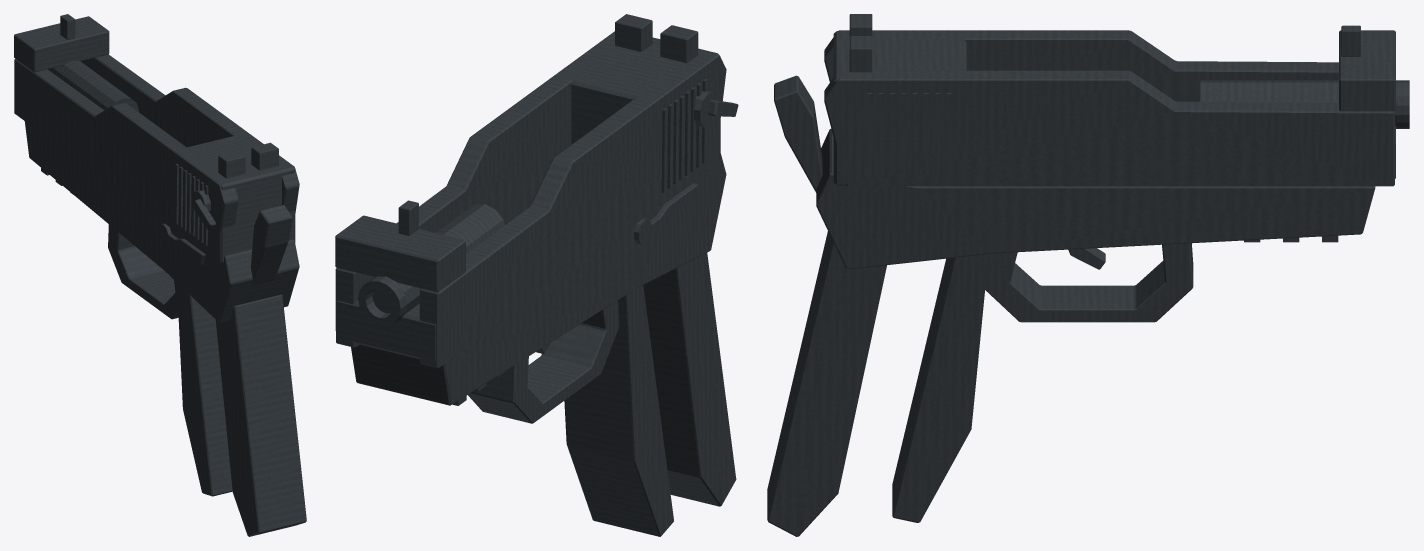
File: weapon_m9a3.glb
3 views of the same model, side by side, from view 1: azimuth 30°, elevation 25°; view 2: azimuth 150°, elevation 25°; view 3: azimuth 270°, elevation 25° (orthographic). The views are drawn at different scales.
Visible parts, largest first — view 1: body_LOD0, action_LOD0; view 2: action_LOD0, body_LOD0; view 3: body_LOD0, action_LOD0.
Part boxes in pixels (x1,y1,x2,y2): body_LOD0: (24, 60, 306, 536); action_LOD0: (14, 14, 299, 263); action_LOD0: (335, 14, 738, 367); body_LOD0: (351, 153, 736, 536); body_LOD0: (767, 75, 1409, 536); action_LOD0: (824, 14, 1395, 186).
Size of what is drawn, in the model's own units: 0.0857 by 0.3355 by 0.3958.
Materials: 1 (1 with a texture image).
